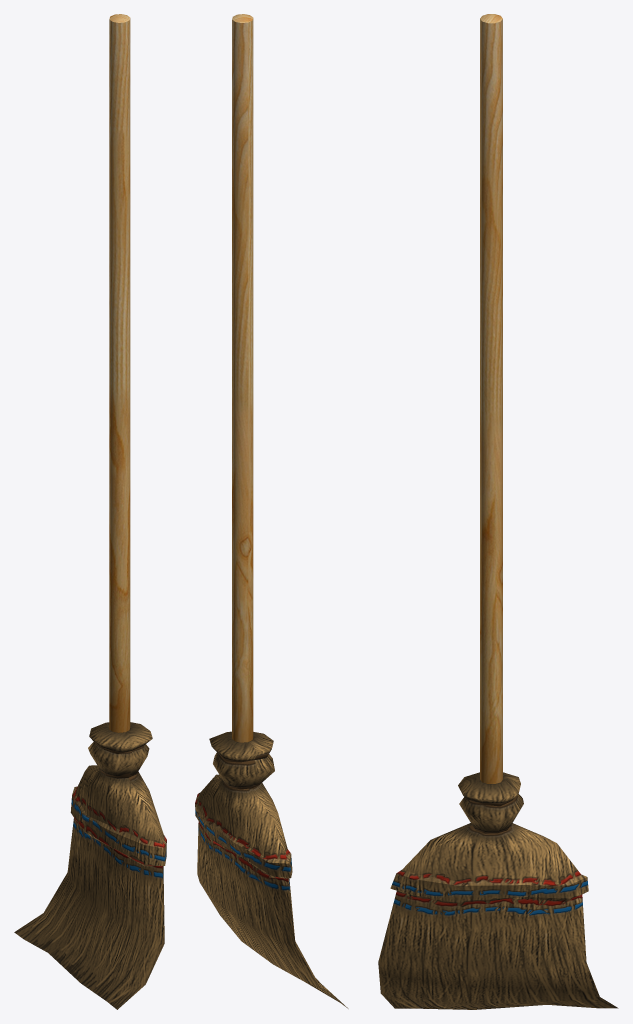
Rendered from prop_broomstick.fbx.
3 renders of one model, left to right at view 1: azimuth 30°, elevation 25°; view 2: azimuth 210°, elevation 25°; view 3: azimuth 270°, elevation 25°, orthographic. The views are drawn at different scales.
Visible parts, largest first — view 1: broomstick; view 2: broomstick; view 3: broomstick.
Part boxes in pixels (box(x1,y1,x2,y2)): broomstick: box(14, 14, 166, 1009); broomstick: box(195, 14, 348, 1008); broomstick: box(378, 14, 618, 1009).
Bounding box in the file's own units: 15.01 × 185 × 39.58.
Materials: 1 (1 with a texture image).
